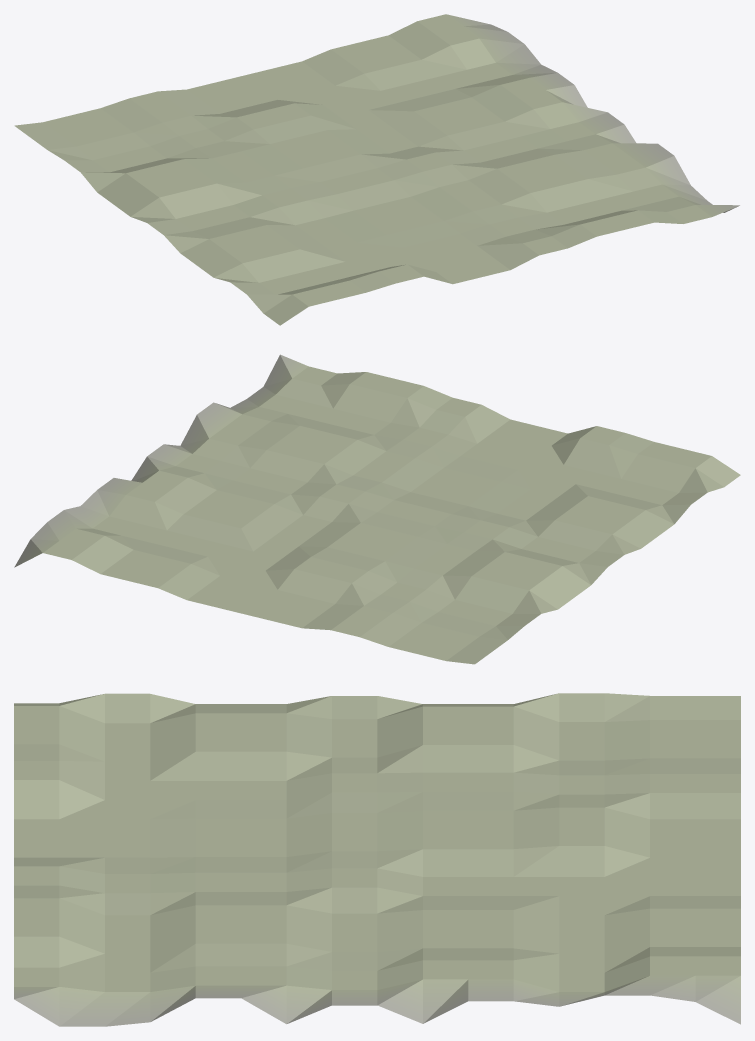
3 views of the same model, one above another, from view 1: azimuth 30°, elevation 25°; view 2: azimuth 150°, elevation 25°; view 3: azimuth 270°, elevation 25° (orthographic). The views are drawn at different scales.
Size of the model in its own units: 32 by 1.72 by 32.
